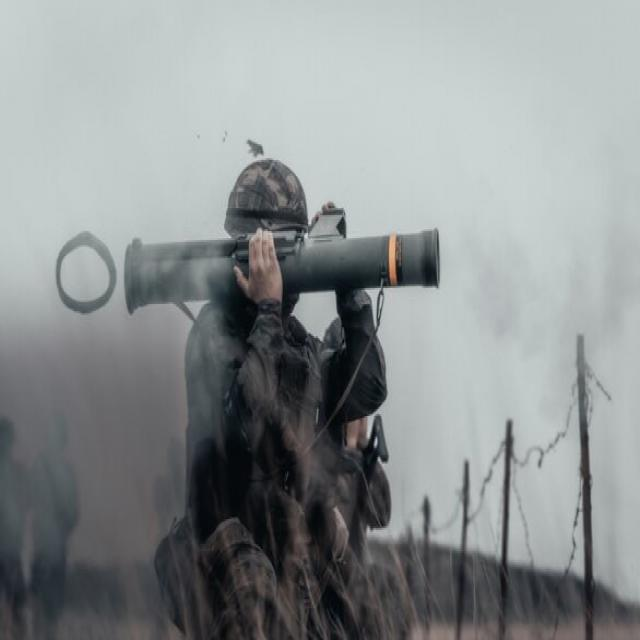rifle: (367, 412, 391, 477)
rocket launcher: (52, 219, 458, 314)
